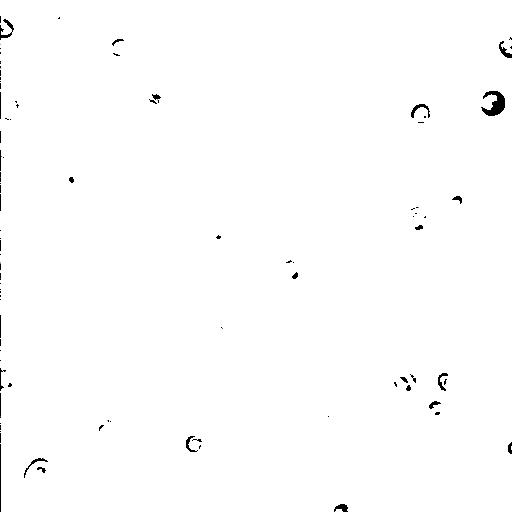micro-algae: (402, 311, 511, 429), (295, 229, 380, 317), (124, 31, 205, 111), (31, 0, 110, 55), (365, 468, 414, 511), (478, 117, 511, 178), (395, 83, 439, 127), (260, 122, 301, 164), (375, 7, 413, 49), (130, 2, 164, 37), (199, 225, 235, 258), (272, 257, 308, 289), (24, 458, 55, 493), (402, 205, 431, 237), (157, 213, 186, 245), (55, 161, 83, 193), (479, 88, 507, 119), (496, 201, 511, 257), (369, 189, 395, 221), (490, 475, 512, 511), (388, 371, 415, 399), (0, 90, 25, 120), (91, 418, 117, 443), (119, 337, 144, 361), (2, 368, 20, 395), (183, 433, 205, 454), (47, 6, 67, 29), (108, 37, 130, 57), (36, 1, 71, 13), (497, 33, 512, 59), (410, 104, 429, 124), (438, 371, 457, 391), (1, 15, 15, 38), (429, 399, 445, 419), (449, 196, 465, 211), (331, 502, 349, 511), (505, 439, 512, 457)
